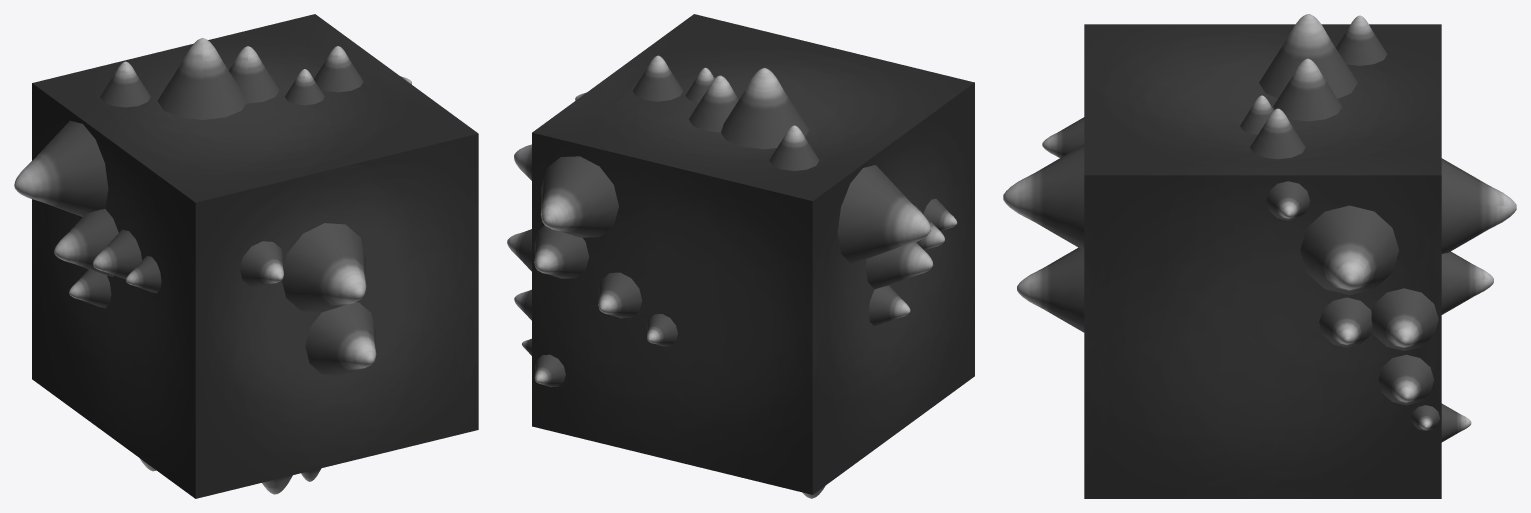
File: squarePlanet.fbx
3 renders of one model, left to right at view 1: azimuth 30°, elevation 25°; view 2: azimuth 150°, elevation 25°; view 3: azimuth 270°, elevation 25°, orthographic. The views are drawn at different scales.
Parts seen in each view (by area): view 1: CubeWorld; view 2: CubeWorld; view 3: CubeWorld.
Part boxes in pixels (x1,y1,x2,y2): CubeWorld: (14, 14, 478, 498); CubeWorld: (507, 14, 974, 498); CubeWorld: (1003, 14, 1516, 498).
Size of the model in its own units: 2.9 by 2.84 by 2.87.
